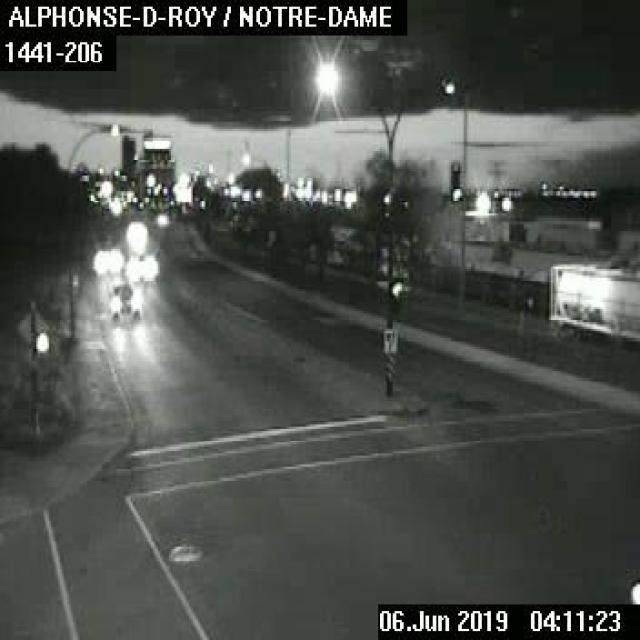vehicle: (107, 280, 138, 318), (124, 254, 156, 281)
